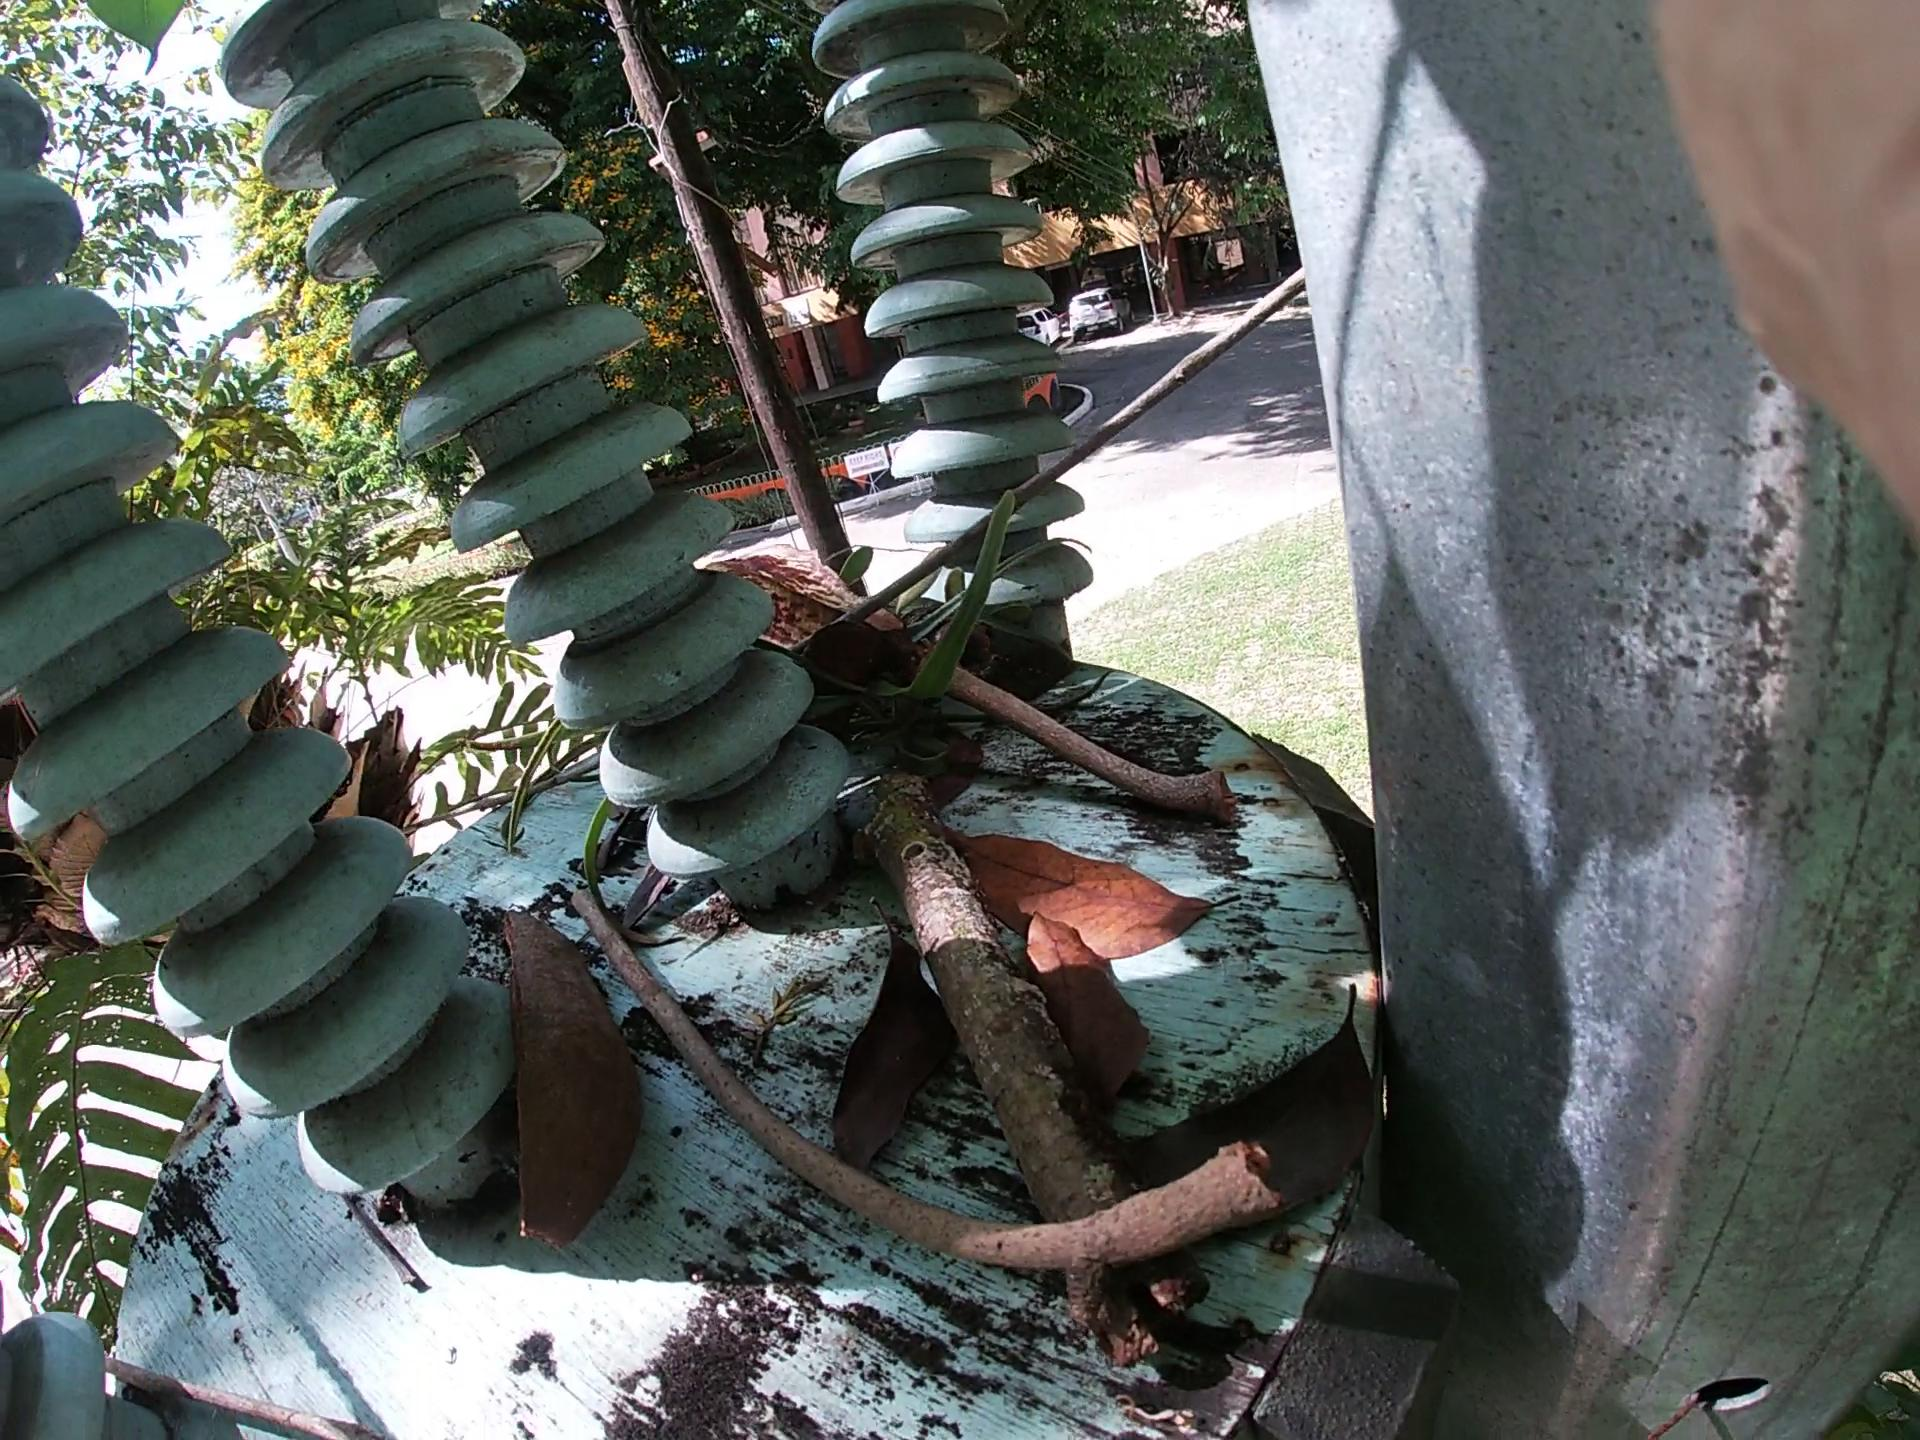branch with leaves: (757, 529, 1401, 1440)
leaf: (813, 729, 1200, 1162)
tree branch: (723, 210, 1368, 771), (437, 971, 1438, 1293), (773, 691, 1368, 793)
